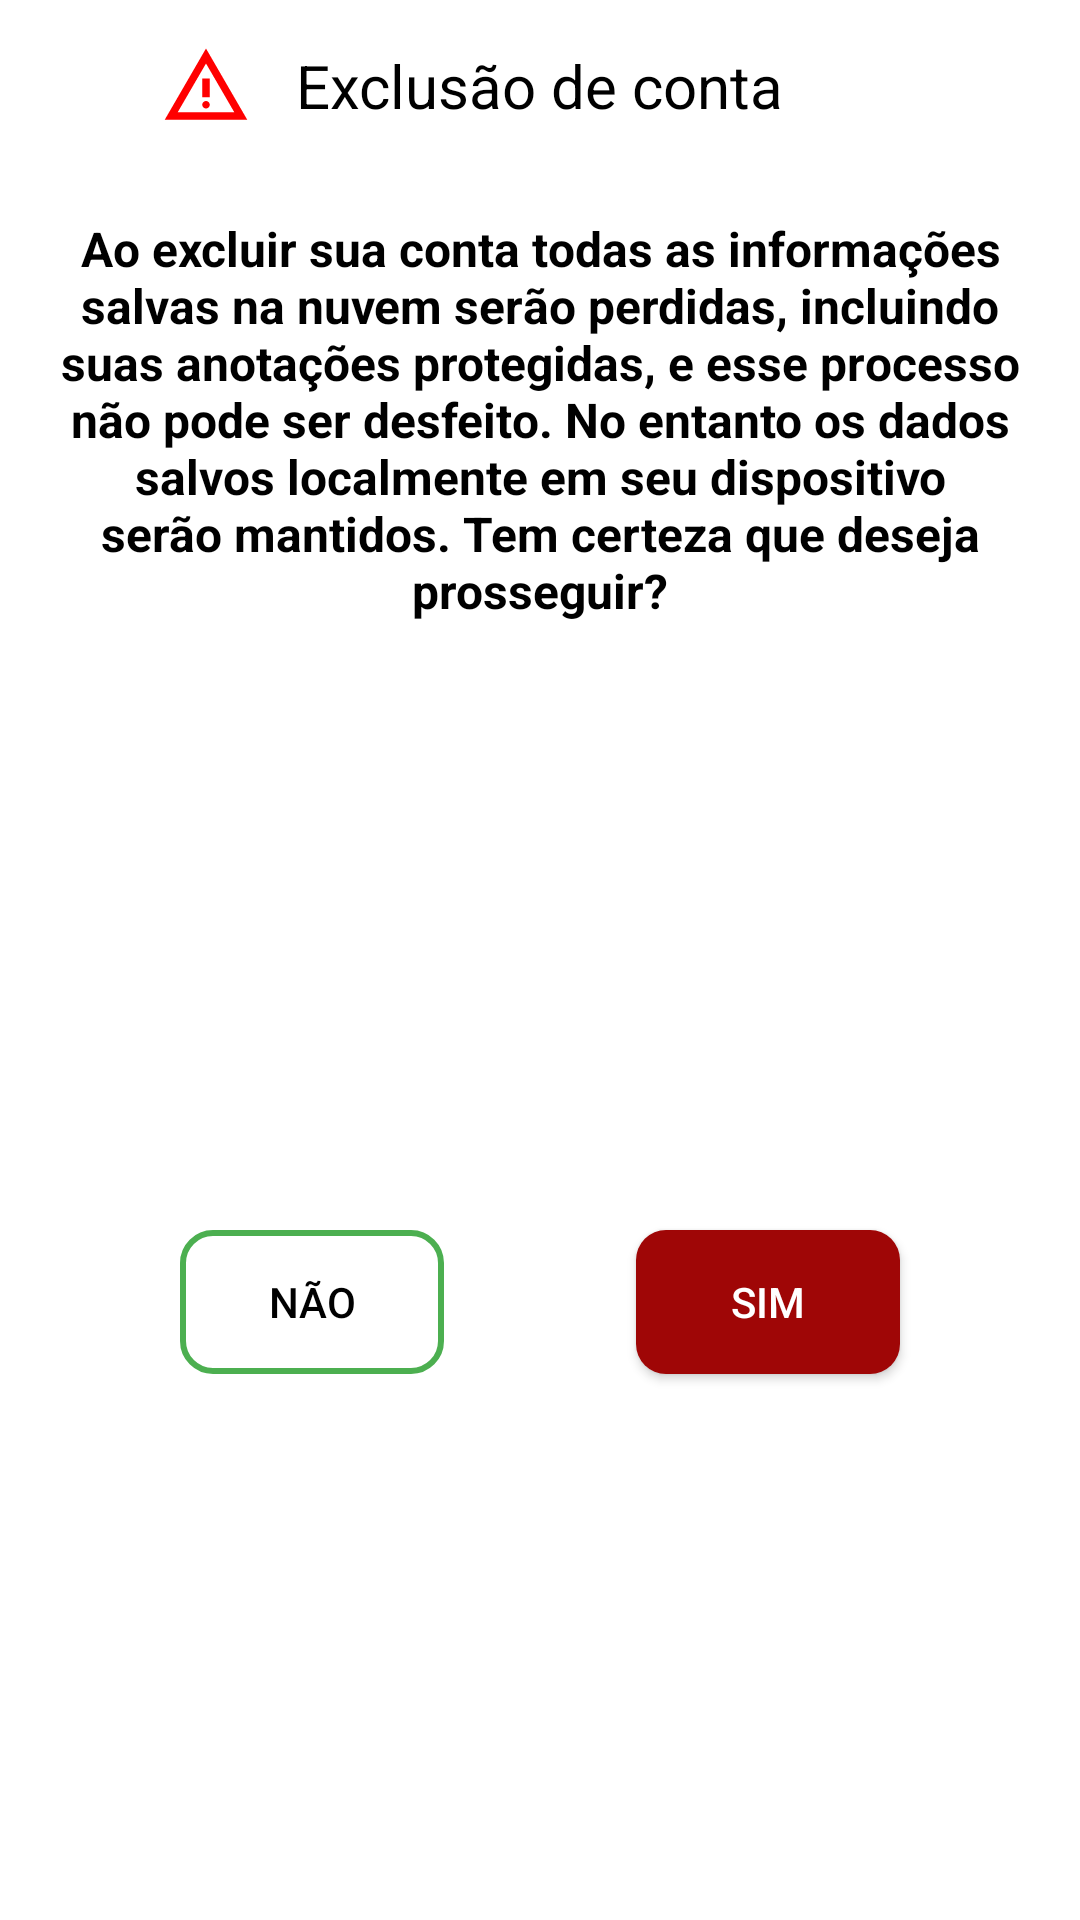

Named icons in this screenshot (1080w x 1920h) and their bounding boxes, {"left": x1, "top": y1, "right": x2, "bottom": y2}:
alerta: {"left": 165, "top": 49, "right": 247, "bottom": 120}
